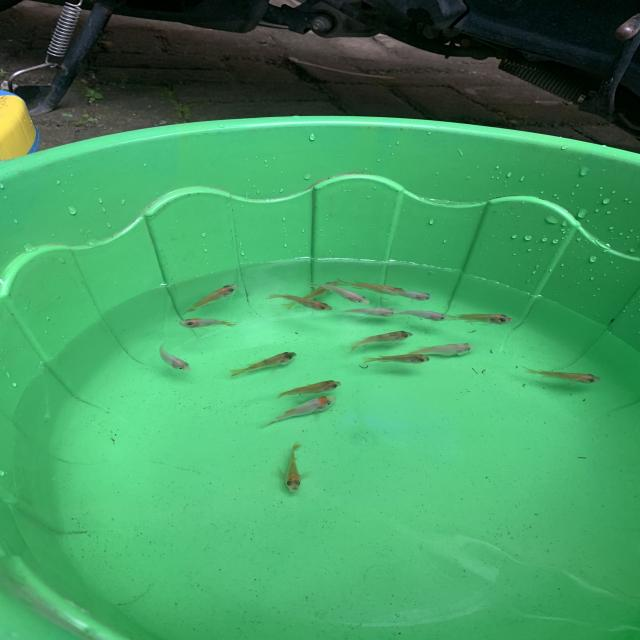nila: (259, 394, 341, 432), (175, 282, 241, 318), (519, 359, 605, 386), (226, 349, 302, 379), (268, 288, 338, 317), (287, 277, 343, 310), (335, 274, 412, 298), (402, 337, 480, 360), (274, 377, 351, 400), (349, 326, 414, 353), (306, 280, 372, 306), (356, 349, 436, 369), (282, 440, 310, 496), (157, 338, 195, 375), (454, 309, 524, 328), (375, 284, 437, 303), (389, 310, 464, 325), (174, 315, 248, 329), (335, 304, 398, 319)
